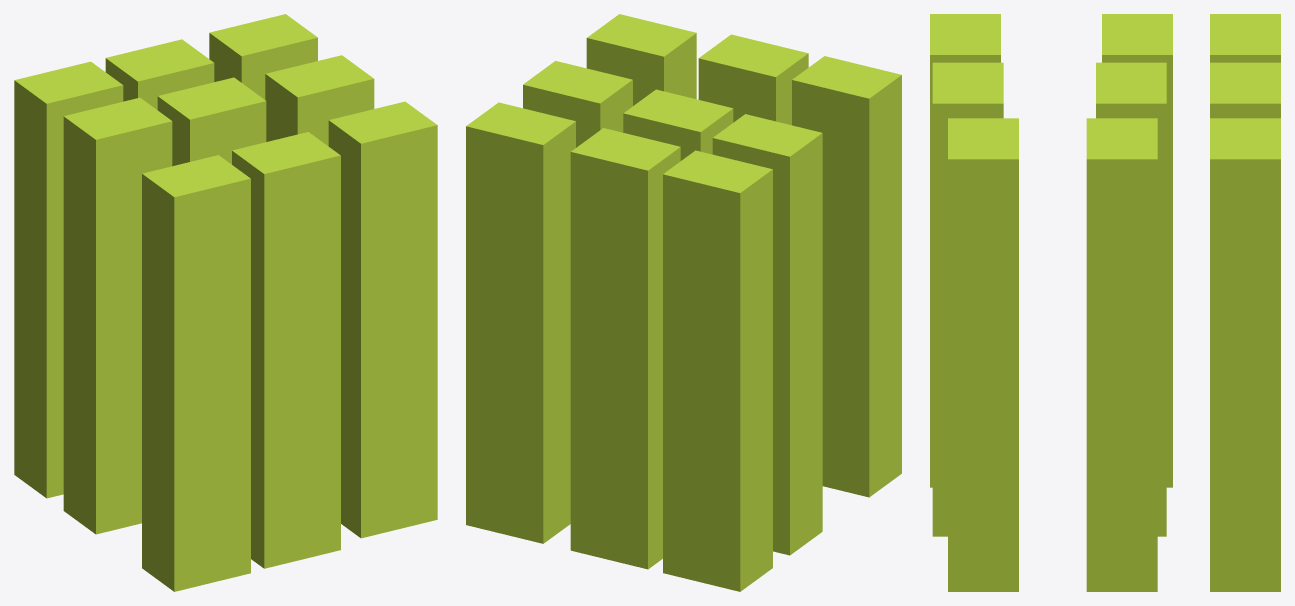
Rendered from wheat_2.glb.
3 renders of one model, left to right at view 1: azimuth 30°, elevation 25°; view 2: azimuth 150°, elevation 25°; view 3: azimuth 270°, elevation 25°, orthographic. The views are drawn at different scales.
Parts seen in each view (by area): view 1: Cube.017, Cube.015, Cube.016, Cube.011, Cube, Cube.014, Cube.012, Cube.013, Cube.010; view 2: Cube, Cube.013, Cube.010, Cube.017, Cube.011, Cube.016, Cube.015, Cube.014, Cube.012; view 3: Cube.014, Cube.013, Cube.015, Cube.016, Cube.012, Cube.011, Cube.017, Cube.010, Cube.
Boxes of the visible parts, x1,y1,x2,y2 form: Cube.017: [142, 155, 250, 591]; Cube.015: [328, 101, 437, 538]; Cube.016: [232, 132, 340, 568]; Cube.011: [63, 97, 172, 534]; Cube: [14, 61, 123, 498]; Cube.014: [265, 55, 374, 146]; Cube.012: [157, 77, 266, 166]; Cube.013: [209, 14, 317, 99]; Cube.010: [105, 39, 214, 109]; Cube: [663, 150, 772, 591]; Cube.013: [466, 102, 575, 543]; Cube.010: [570, 128, 680, 569]; Cube.017: [792, 56, 901, 497]; Cube.011: [712, 114, 822, 555]; Cube.016: [698, 34, 808, 125]; Cube.015: [586, 14, 696, 105]; Cube.014: [523, 61, 632, 147]; Cube.012: [623, 89, 733, 160]; Cube.014: [1086, 118, 1157, 591]; Cube.013: [1210, 118, 1280, 591]; Cube.015: [948, 118, 1018, 591]; Cube.016: [932, 62, 1003, 536]; Cube.012: [1096, 62, 1166, 536]; Cube.011: [1102, 14, 1172, 487]; Cube.017: [930, 14, 1000, 487]; Cube.010: [1210, 62, 1280, 118]; Cube: [1210, 14, 1280, 62].
Bounding box in the file's own units: 0.7286 × 1.01 × 0.7439.
